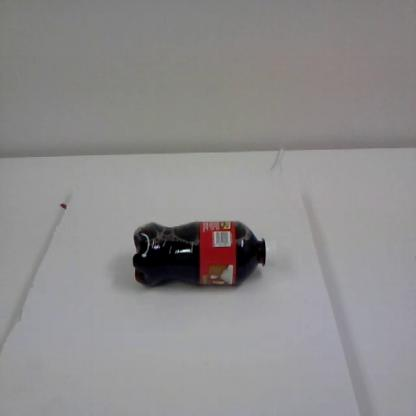bottle: (130, 220, 279, 290)
